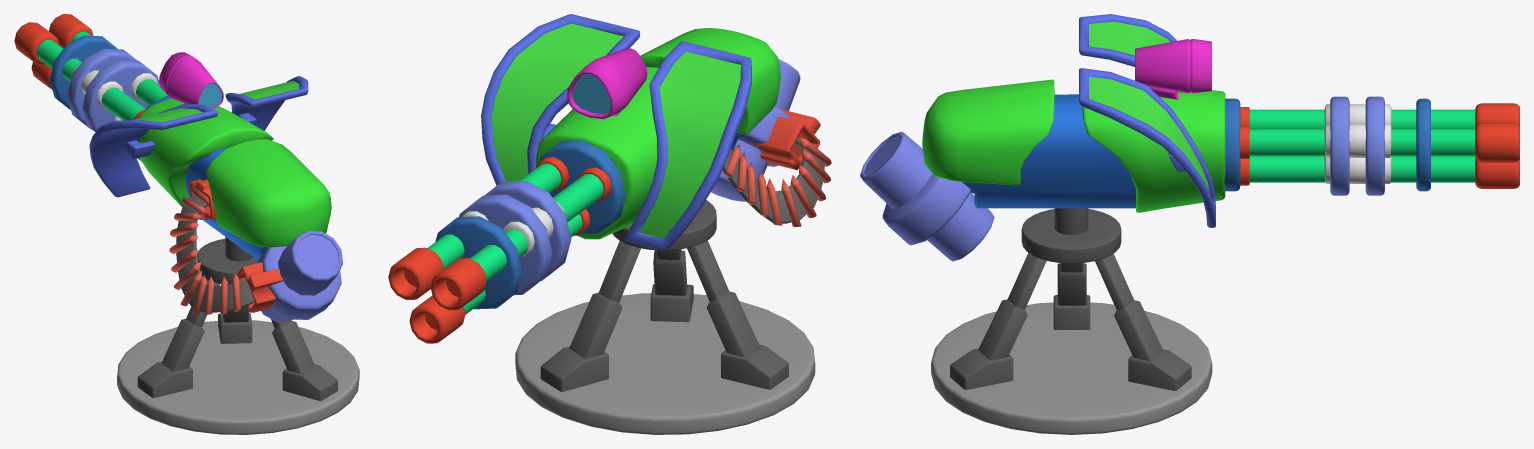
File: mini_.fbx
3 views of the same model, side by side, from view 1: azimuth 30°, elevation 25°; view 2: azimuth 150°, elevation 25°; view 3: azimuth 270°, elevation 25° (orthographic). The views are drawn at different scales.
Parts seen in each view (by area): view 1: Weapon_01_1.006, mini_base, ammunition, stand_1, Shild_1, mini_up, minigun_up.003, radar, minigun_up.004, mini_base_2; view 2: Shild_1, Weapon_01_1.006, stand_1, mini_base, mini_up, ammunition, minigun_up.003, radar, minigun_up.004, minigun_up.010; view 3: Weapon_01_1.006, mini_base, stand_1, mini_up, Shild_1, mini_base_2, ammunition, minigun_up.003, radar, minigun_up.010, minigun_up.004.
Boxes of the visible parts, x1,y1,x2,y2 form: Weapon_01_1.006: [117, 320, 359, 434]; mini_base: [138, 98, 331, 247]; ammunition: [169, 179, 342, 321]; stand_1: [137, 237, 337, 401]; Shild_1: [89, 76, 308, 197]; mini_up: [14, 14, 168, 120]; minigun_up.003: [67, 48, 159, 131]; radar: [159, 52, 223, 108]; minigun_up.004: [49, 35, 117, 109]; mini_base_2: [185, 147, 266, 260]; Shild_1: [481, 14, 751, 250]; Weapon_01_1.006: [515, 293, 815, 434]; stand_1: [540, 200, 788, 391]; mini_base: [535, 28, 780, 239]; mini_up: [388, 157, 611, 343]; ammunition: [711, 59, 831, 226]; minigun_up.003: [459, 181, 571, 295]; radar: [567, 48, 647, 119]; minigun_up.004: [435, 216, 522, 309]; minigun_up.010: [538, 140, 625, 234]; Weapon_01_1.006: [931, 302, 1212, 434]; mini_base: [922, 79, 1225, 212]; stand_1: [950, 208, 1191, 390]; mini_up: [1240, 103, 1519, 188]; Shild_1: [1079, 14, 1215, 227]; mini_base_2: [962, 94, 1135, 208]; ammunition: [860, 131, 994, 261]; minigun_up.003: [1324, 96, 1391, 195]; radar: [1135, 39, 1211, 99]; minigun_up.010: [1224, 98, 1240, 191]; minigun_up.004: [1416, 98, 1430, 191].
Bounding box in the file's own units: 88.73 × 117 × 208.
